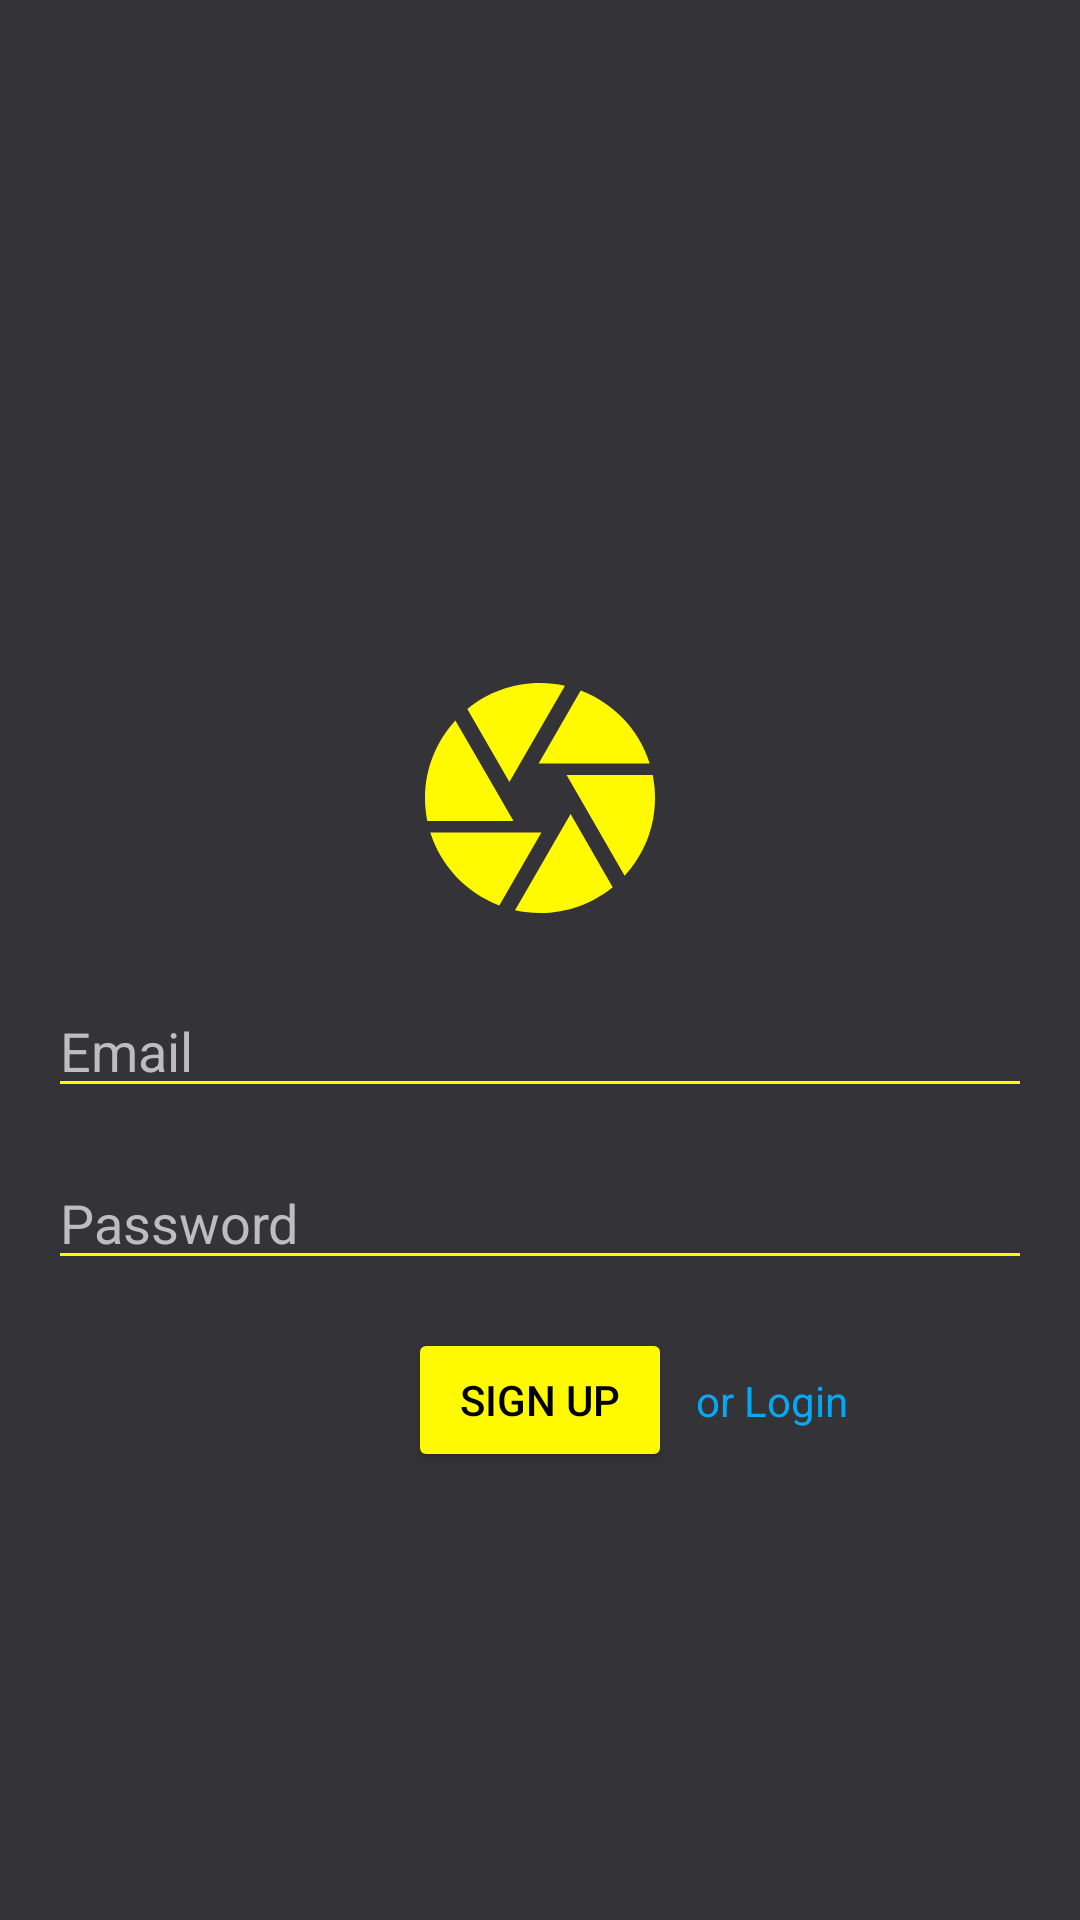

Screen size 1080 × 1920. Icon name, then its center in pixels as [x,y]:
snap: [540,798]
